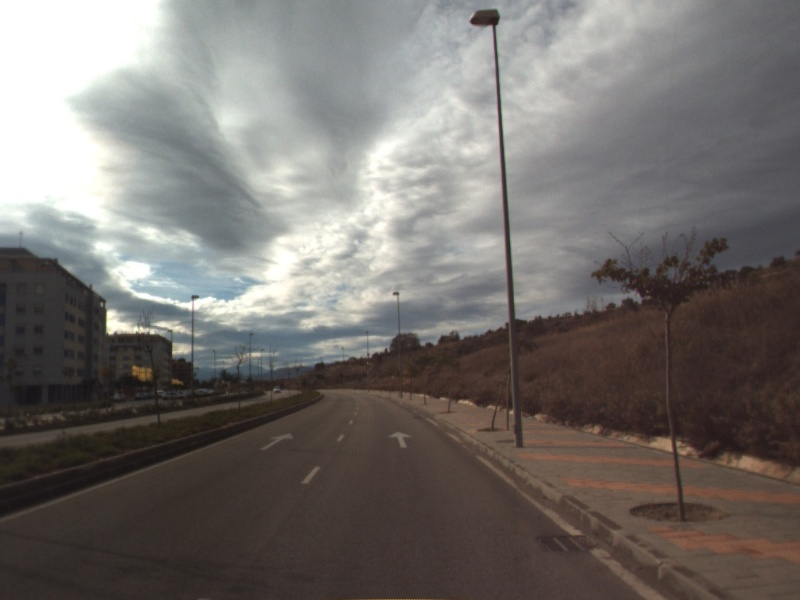STRAIGHT: (257, 431, 296, 452), (387, 429, 415, 449)
